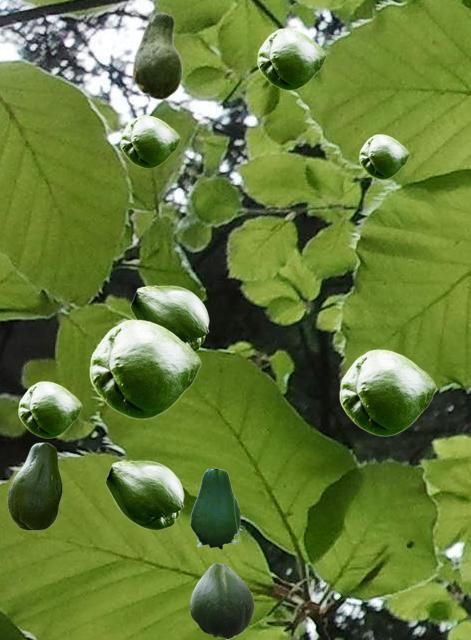sayote: (89, 319, 200, 418), (339, 349, 435, 435), (105, 460, 183, 529), (130, 285, 208, 351), (190, 563, 253, 638), (7, 442, 61, 529), (132, 12, 181, 99), (257, 28, 325, 89), (190, 469, 241, 550), (18, 381, 81, 437), (120, 115, 179, 167), (359, 134, 408, 178)
